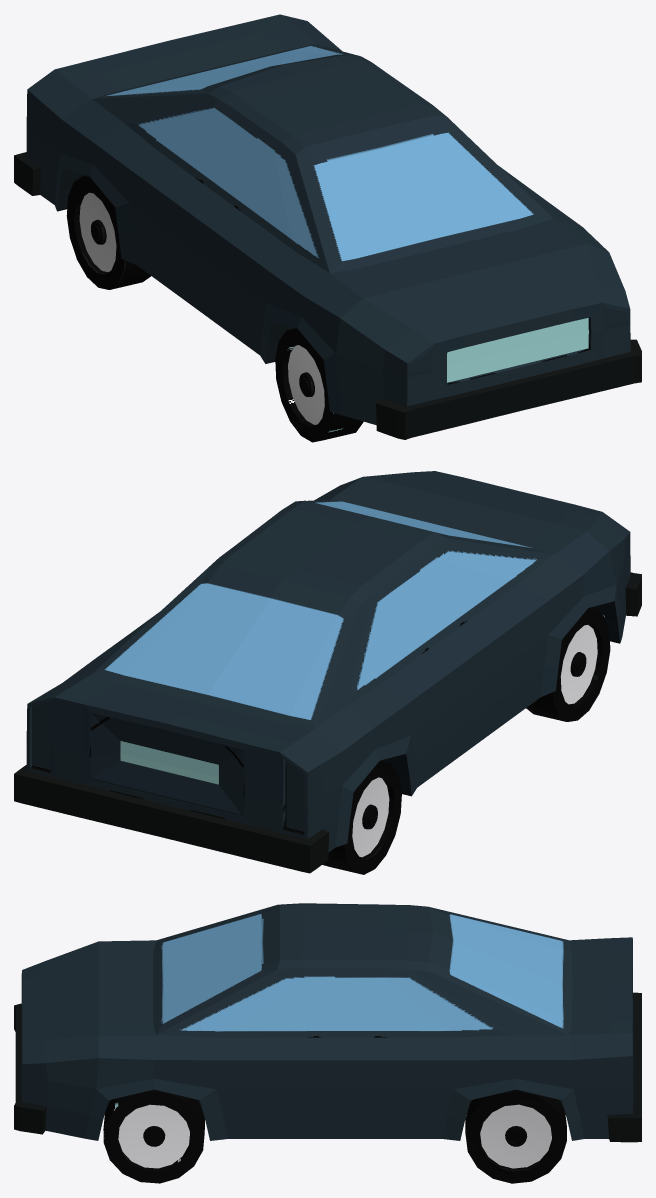
Rendered from Box Model Car.fbx.
3 renders of one model, top to bottom at view 1: azimuth 30°, elevation 25°; view 2: azimuth 150°, elevation 25°; view 3: azimuth 270°, elevation 25°, orthographic. The views are drawn at different scales.
Parts seen in each view (by area): view 1: Box Model Car; view 2: Box Model Car; view 3: Box Model Car.
Part boxes in pixels (box(x1,y1,x2,y2)): Box Model Car: box(14, 14, 641, 442); Box Model Car: box(14, 471, 641, 874); Box Model Car: box(14, 903, 641, 1183).
Bounding box in the file's own units: 11.82 × 8.5 × 25.
1 material, 1 textured.
